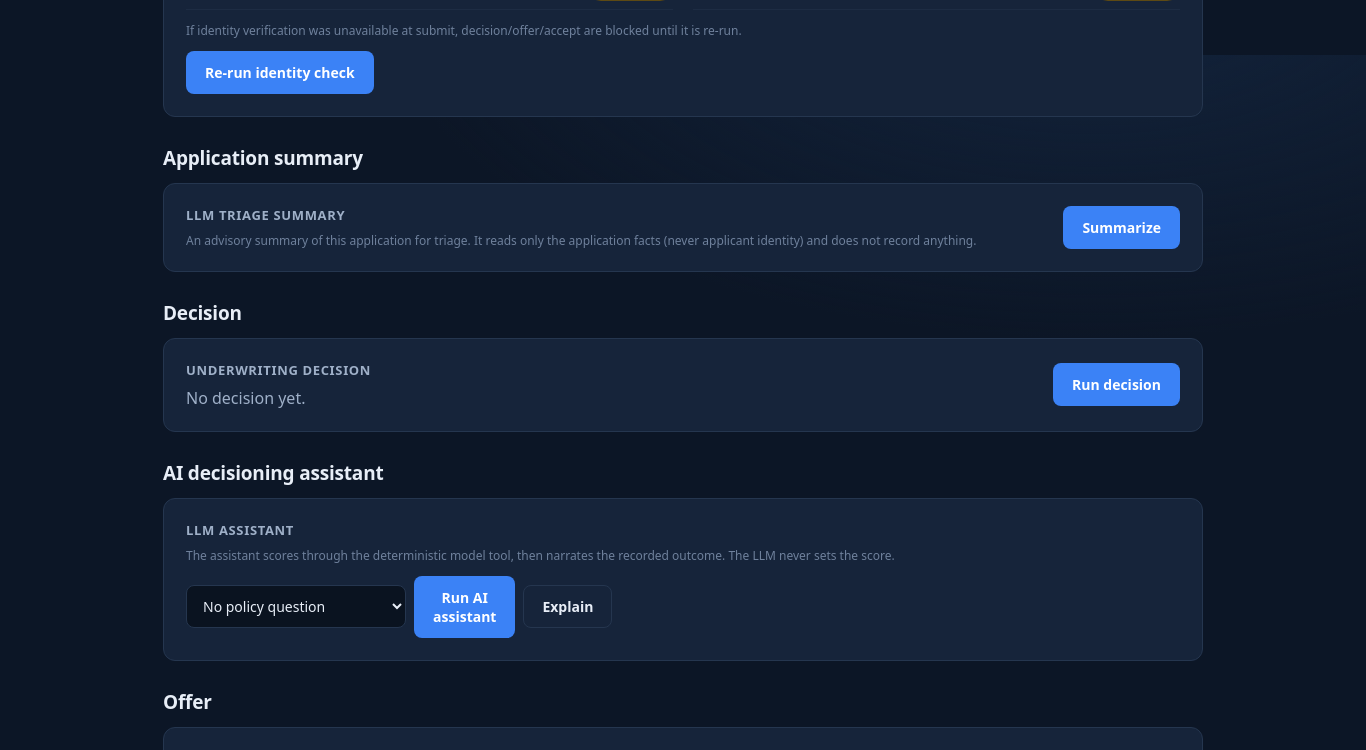
Scenario: underwriting detail — every principal reason reaches the officer › shows all reasons from a manual decision, not only the first
(page scrolled)
Click the button "Run decision" at {"x": 1116, "y": 384}, box [1053,363,1180,406]
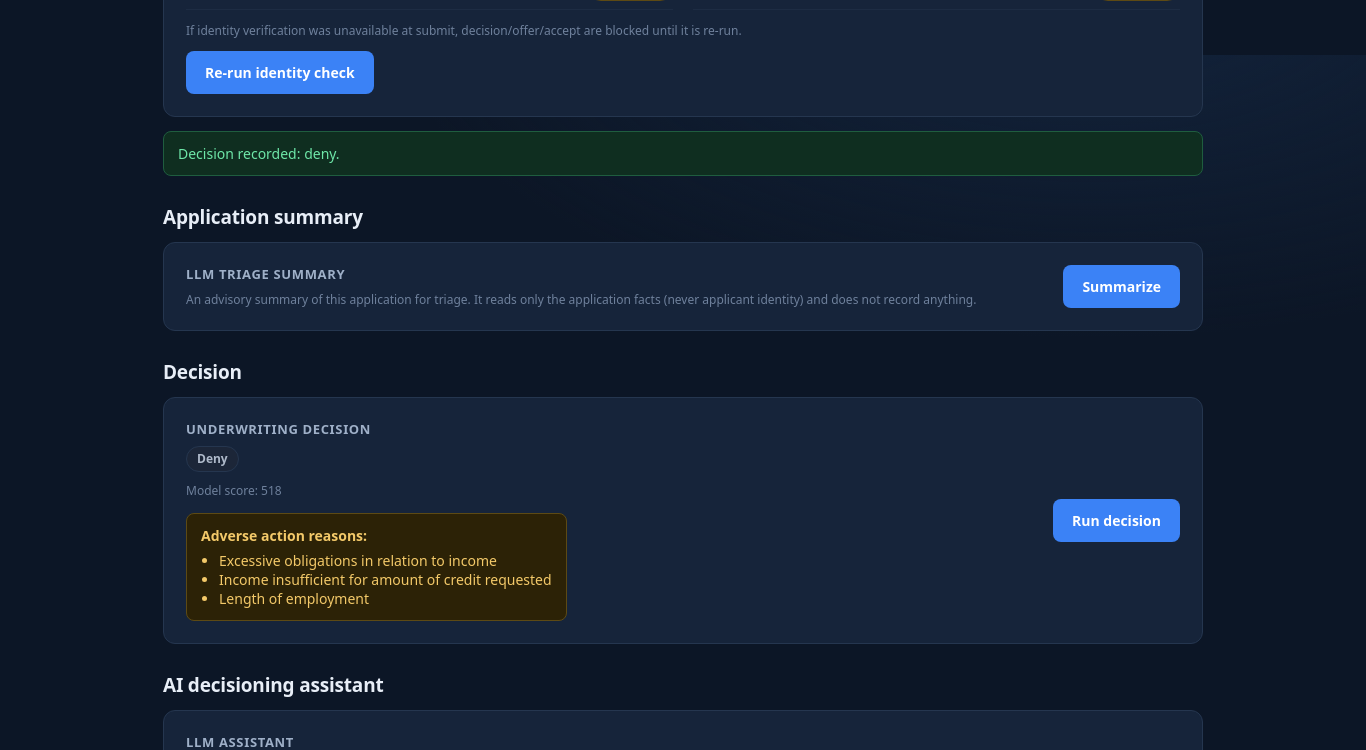
expect the list item "Excessive obligations in relation to income" is shown: met, box [219,550,497,570]
expect the list item "Income insufficient for amount of credit requested" is shown: met, box [219,570,552,588]
expect the list item "Length of employment" is shown: met, box [219,588,369,608]
